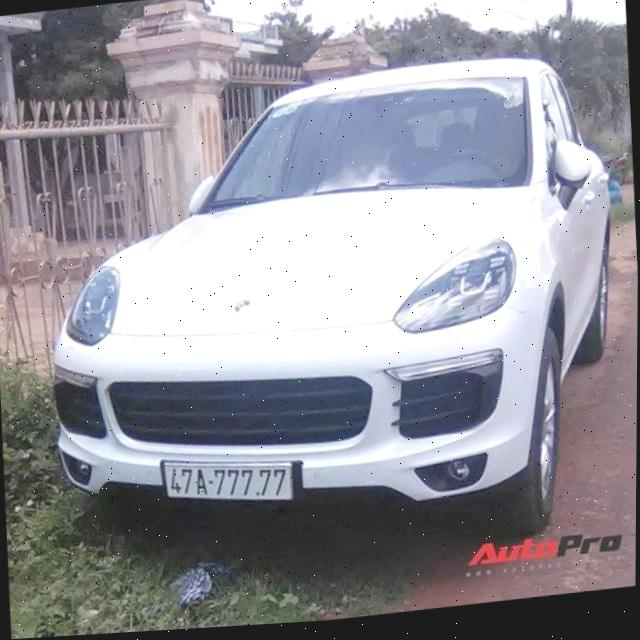car: (20, 16, 640, 586)
plate: (158, 446, 299, 518)
